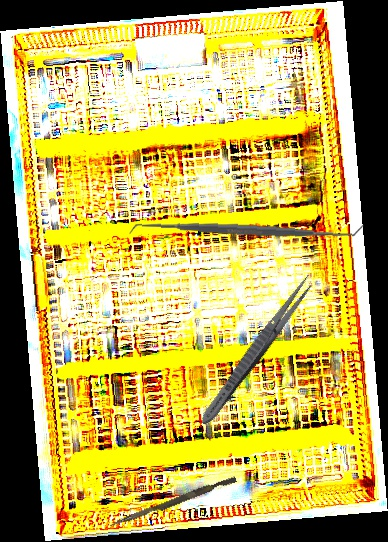Dressing Forceps: (196, 271, 318, 429)
Pusher: (109, 473, 237, 532)
Spatula Surgical: (128, 210, 366, 249)
